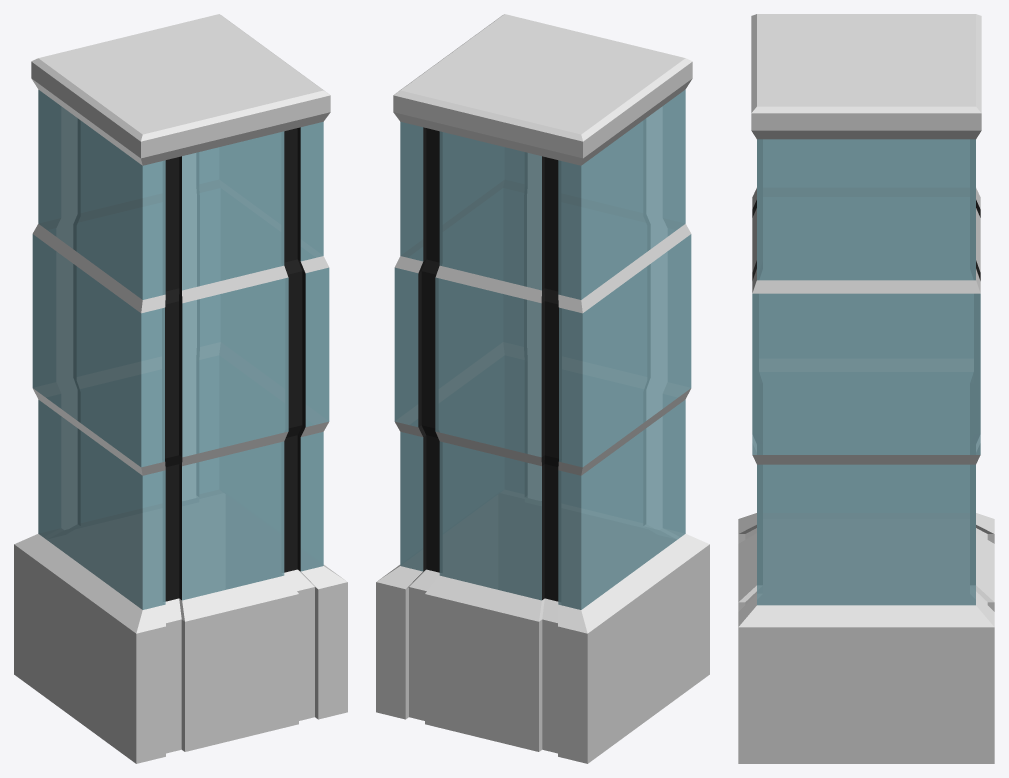
The model's file is generic building.fbx.
The picture shows the model from 3 angles, left to right: view 1: azimuth 30°, elevation 25°; view 2: azimuth 150°, elevation 25°; view 3: azimuth 270°, elevation 25°; orthographic projection. The views are drawn at different scales.
Visible parts, largest first — view 1: Cube.002; view 2: Cube.002; view 3: Cube.002.
Part boxes in pixels (x1,y1,x2,y2): Cube.002: (14,14,347,763); Cube.002: (376,14,709,763); Cube.002: (738,14,994,763).
Size of the model in its own units: 372 by 1040 by 372.
